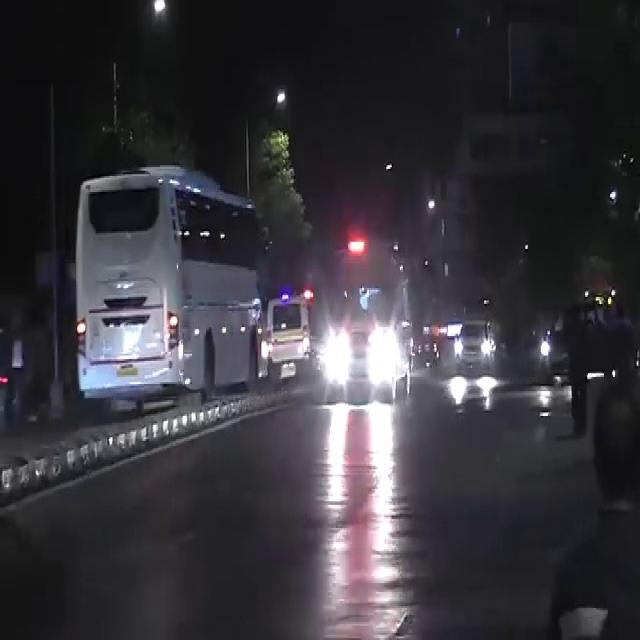ambulance: (315, 212, 413, 410)
